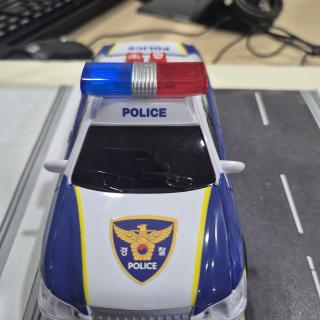Police_car: (38, 41, 247, 320)
